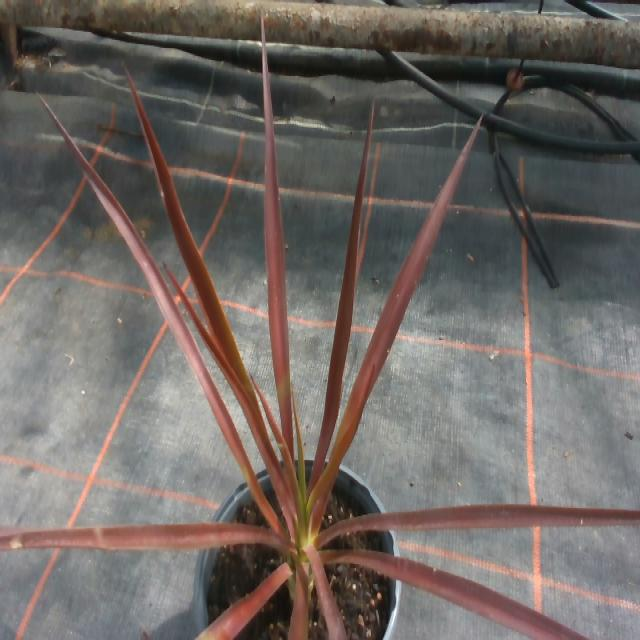Yucca-aloifolia: (42, 99, 256, 497), (127, 72, 294, 511), (312, 120, 480, 499), (127, 72, 256, 405), (321, 551, 587, 639), (311, 107, 372, 485), (320, 505, 639, 545), (263, 51, 292, 451), (0, 523, 289, 551), (196, 564, 290, 639), (304, 544, 345, 639), (288, 565, 308, 639)
